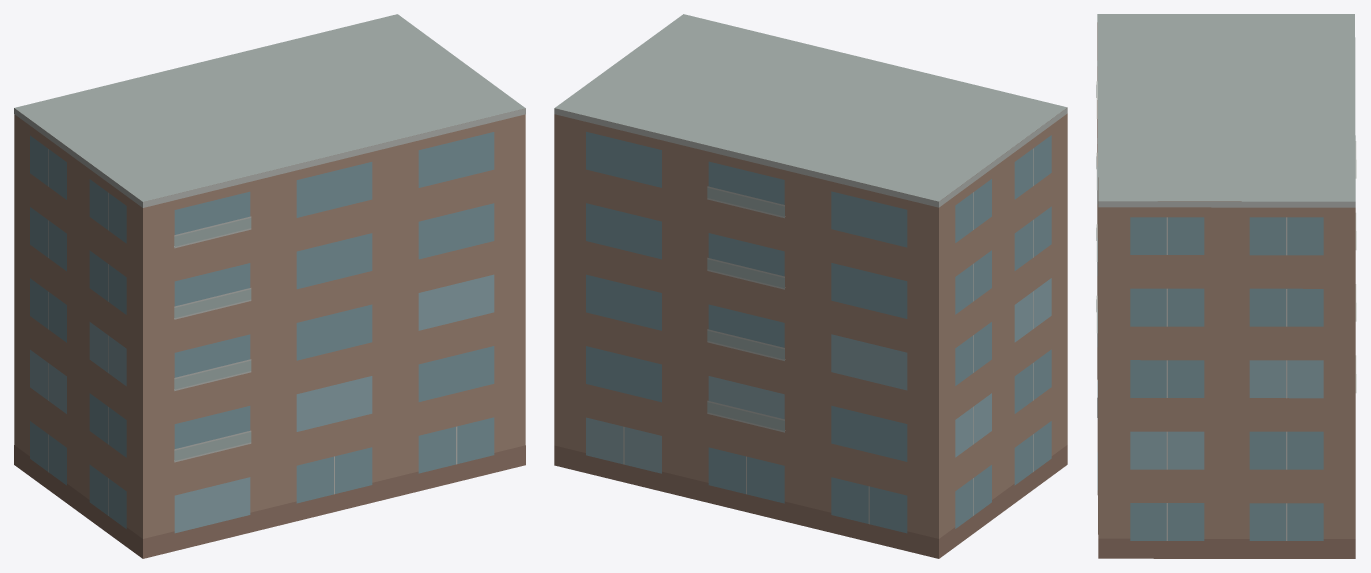
Rendered from survey-upis-32820431.glb.
3 views of the same model, side by side, from view 1: azimuth 30°, elevation 25°; view 2: azimuth 150°, elevation 25°; view 3: azimuth 270°, elevation 25° (orthographic).
Visible parts, largest first — view 1: survey-upis-32820431.tmp; view 2: survey-upis-32820431.tmp; view 3: survey-upis-32820431.tmp.
Boxes of the visible parts, x1,y1,x2,y2 form: survey-upis-32820431.tmp: [14, 14, 525, 558]; survey-upis-32820431.tmp: [554, 14, 1067, 558]; survey-upis-32820431.tmp: [1096, 14, 1356, 558].
Size of the model in its own units: 16.22 by 14.4 by 9.5.
